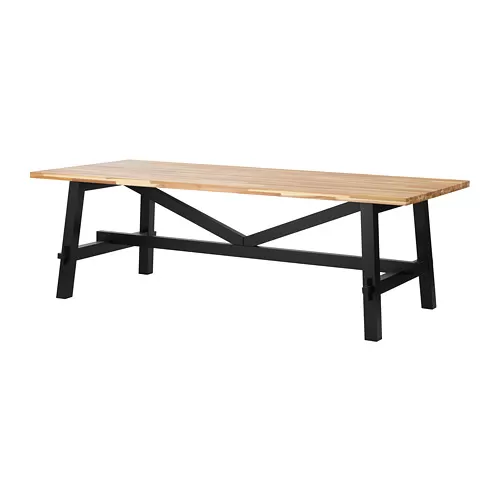Table: (24, 158, 468, 344)
